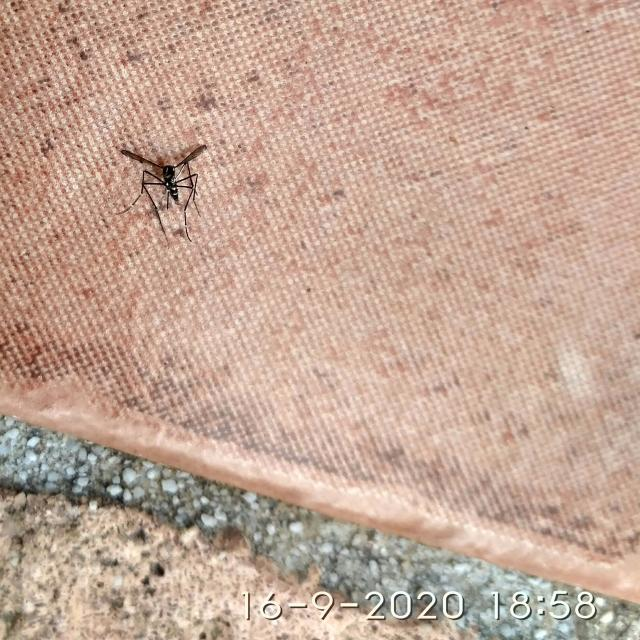albopictus: (105, 134, 212, 242)
